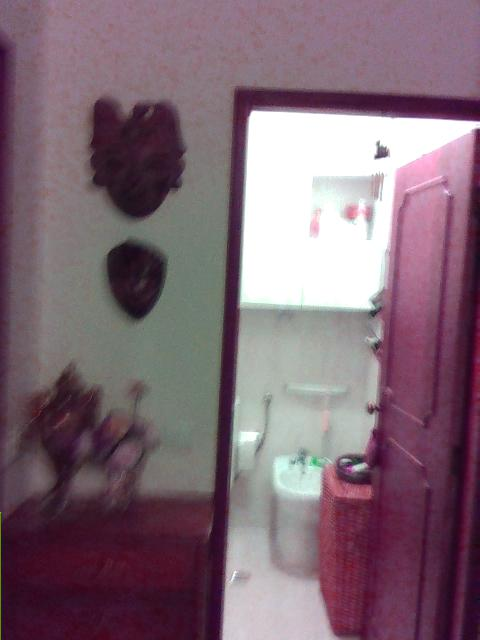open_door: (209, 85, 479, 639)
